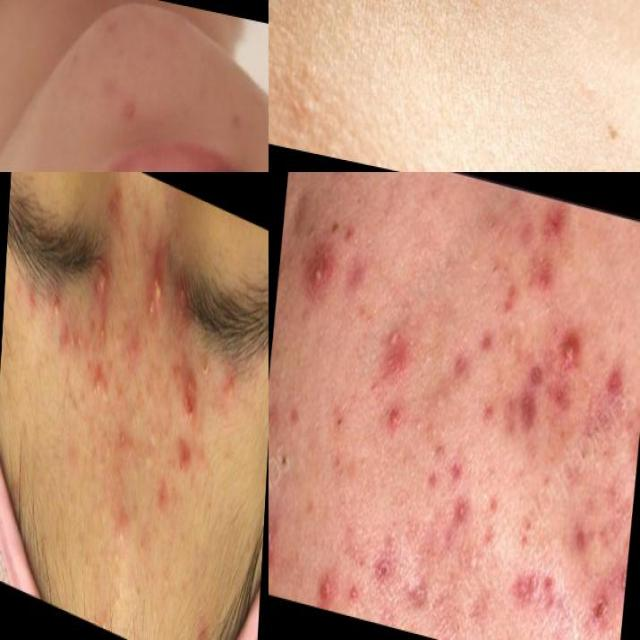8: (504, 348, 555, 454), (301, 543, 337, 605), (109, 86, 150, 134), (176, 421, 194, 490), (381, 395, 408, 437), (523, 259, 553, 293), (544, 205, 568, 243), (537, 624, 574, 640)
9: (552, 319, 592, 375), (298, 251, 329, 296), (48, 278, 64, 334), (224, 368, 239, 414)
blackheads: (370, 297, 428, 403), (576, 527, 628, 640), (500, 553, 558, 621), (178, 354, 202, 416), (150, 261, 166, 312), (98, 254, 110, 298)
dark spot: (481, 247, 503, 279)
whiteheads: (94, 319, 112, 355), (116, 422, 130, 460)
